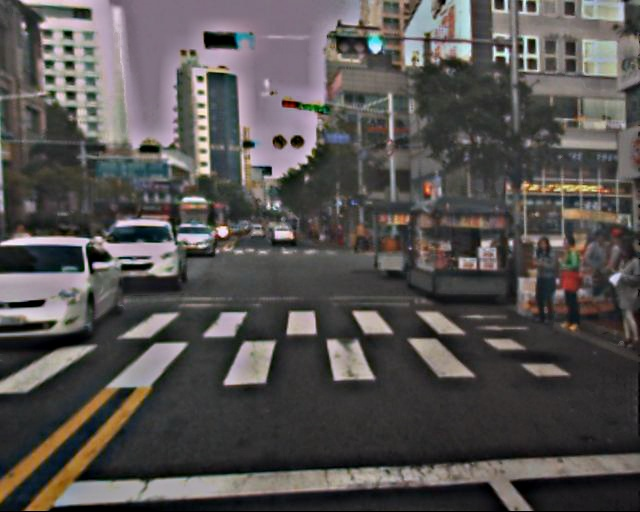person: (593, 242, 640, 350), (590, 228, 636, 322), (546, 238, 588, 334), (522, 234, 564, 327), (577, 231, 617, 316)
